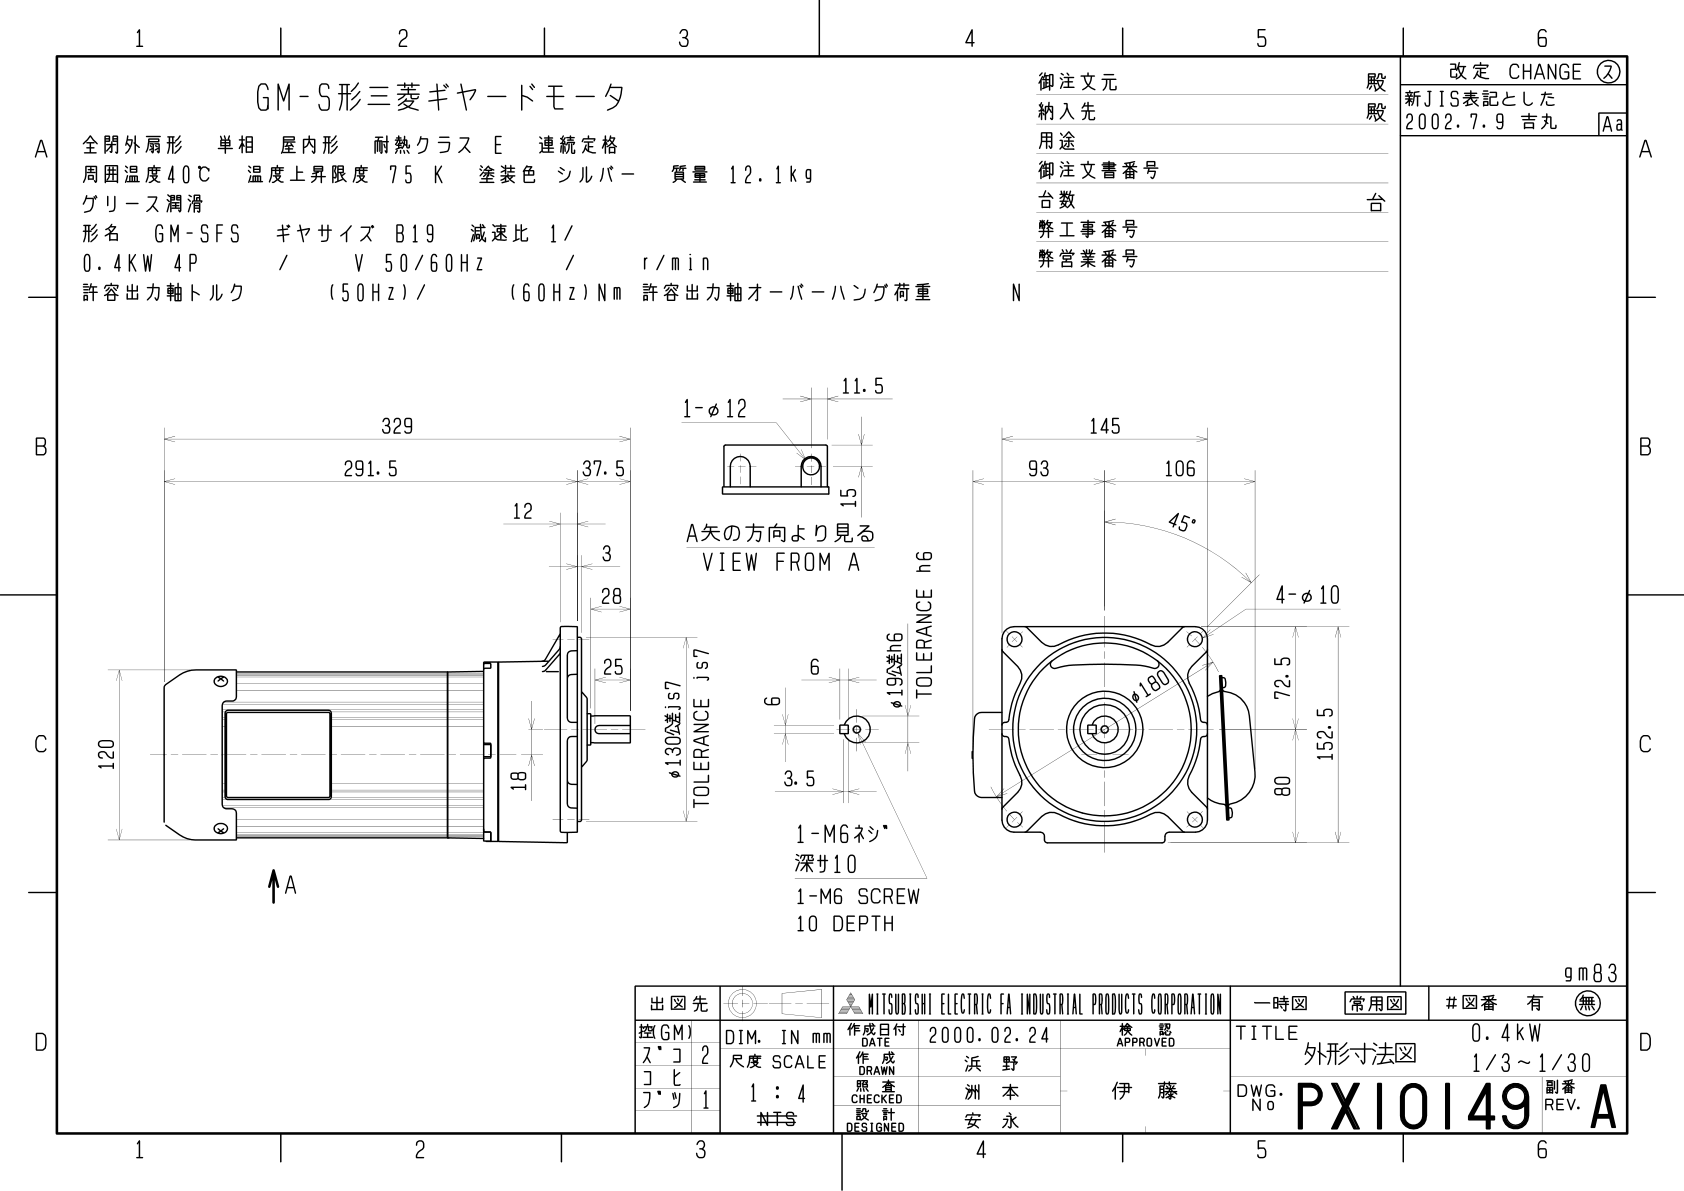GM_S_屋内＿単相_フランジ: (71, 361, 1379, 937)
